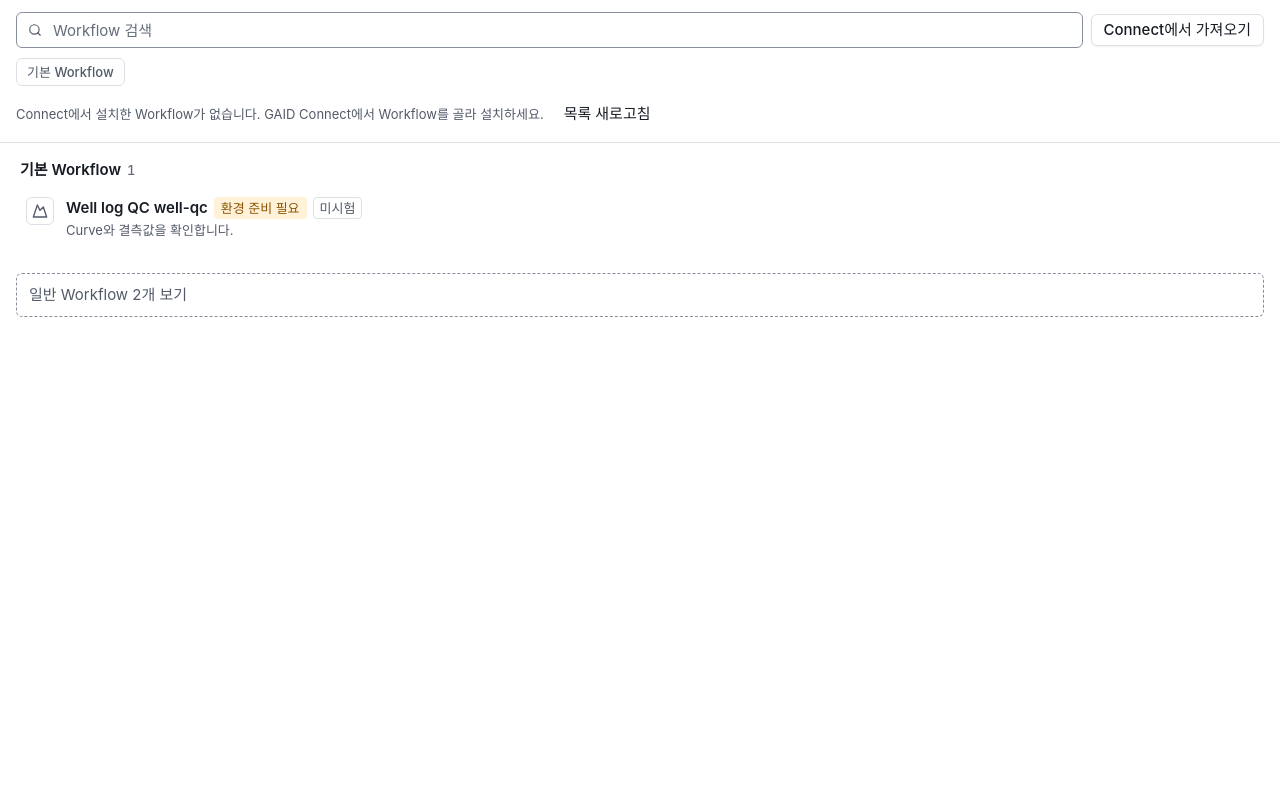
task catalogue and setup › separates run record from readiness: needs-environment
Expected: the text "환경 준비 필요" is shown, x1=214 y1=197 x2=307 y2=219
Click the button "Well log QC well-qc 환경 준비 필요 미시험 Curve와 결측값을 확인합니다." at (137, 208), box x1=16 y1=187 x2=1264 y2=249
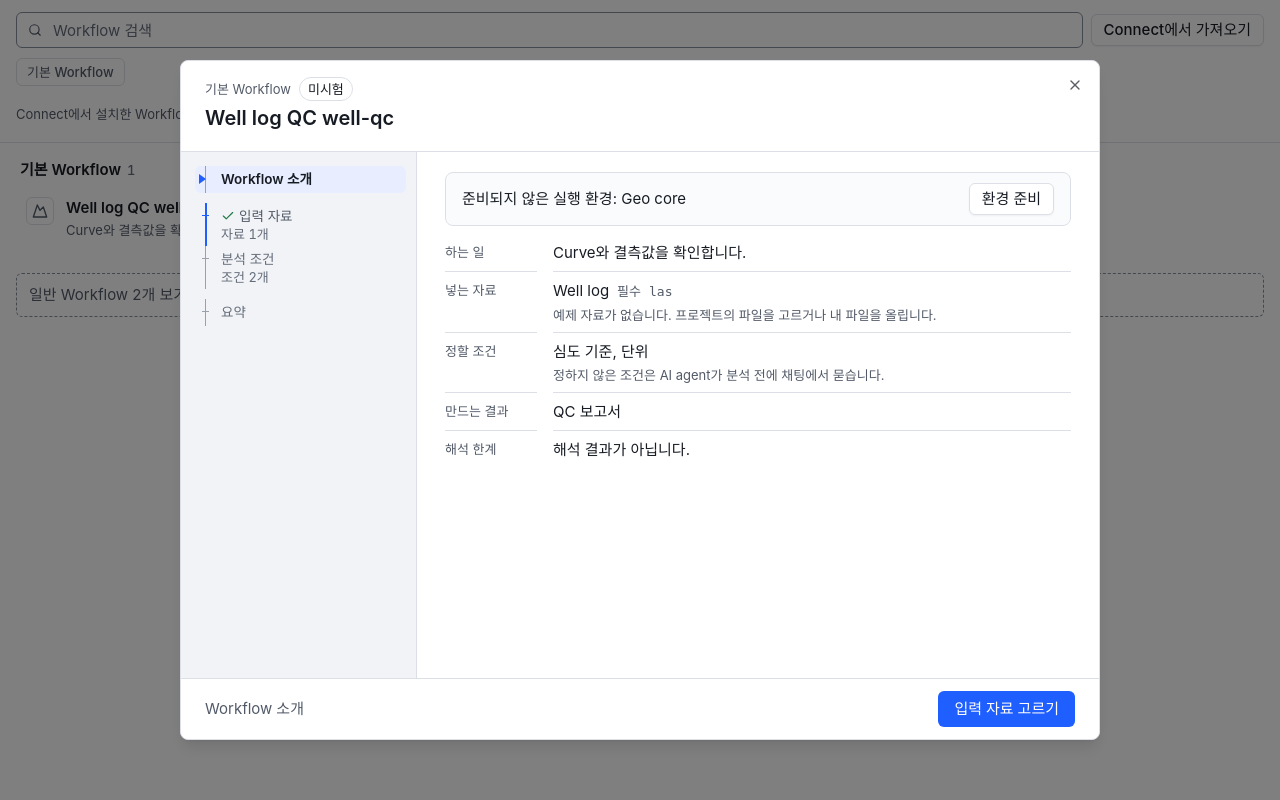
Expected: the text "준비되지 않은 실행 환경: Geo core" is shown, x1=462 y1=188 x2=686 y2=208
Expected: the element named "Workflow 소개" is shown, x1=445 y1=172 x2=1071 y2=226
Click the tab "입력 자료 자료 1개" at (300, 224), box x1=195 y1=202 x2=406 y2=246
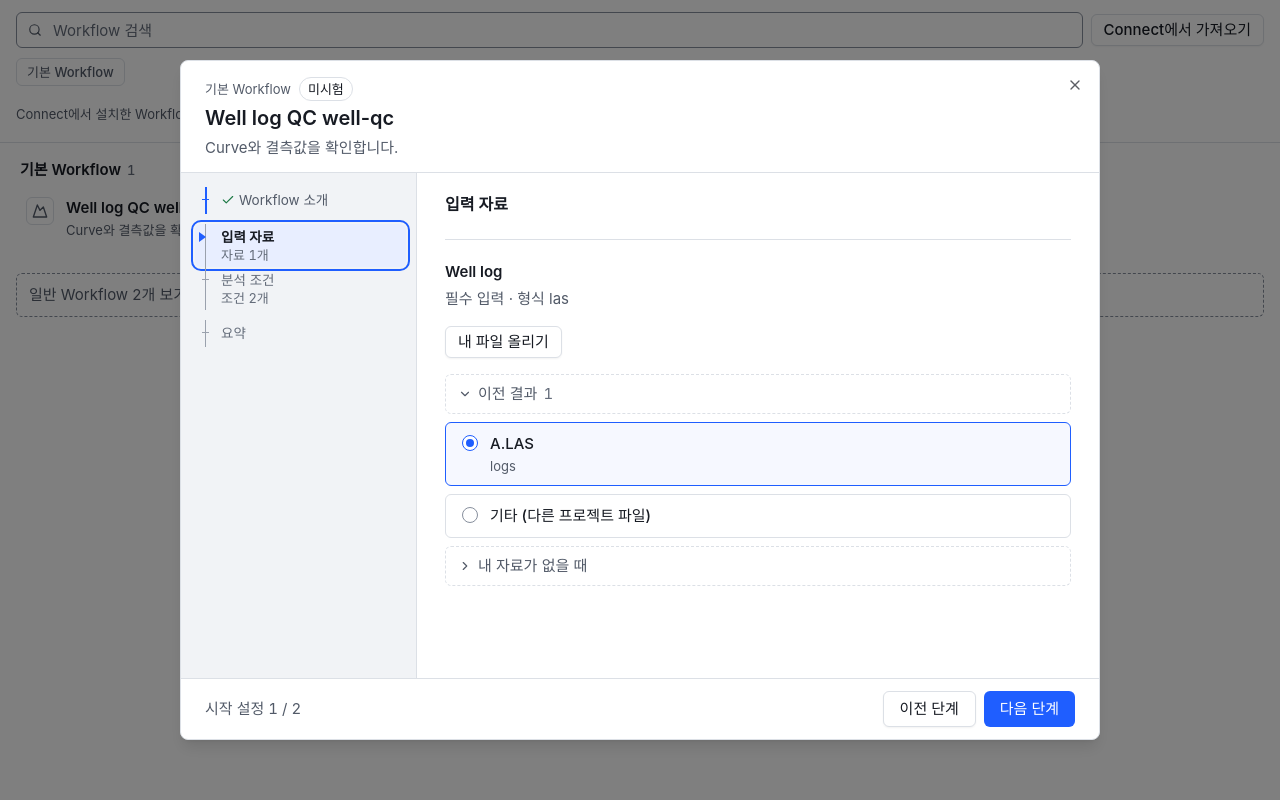
Click the tab "요약" at (300, 333), box x1=195 y1=320 x2=406 y2=346
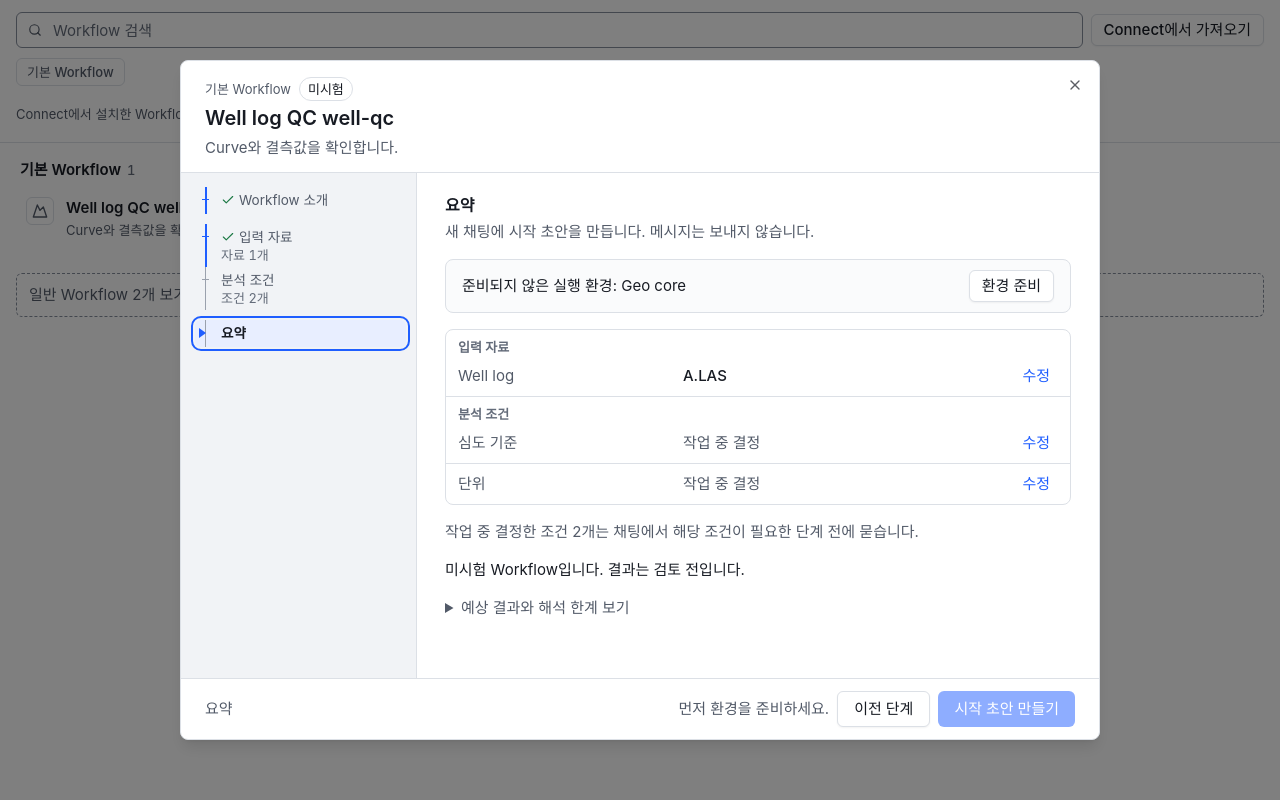
Expected: the button "시작 초안 만들기" is disabled, x1=938 y1=691 x2=1075 y2=727
